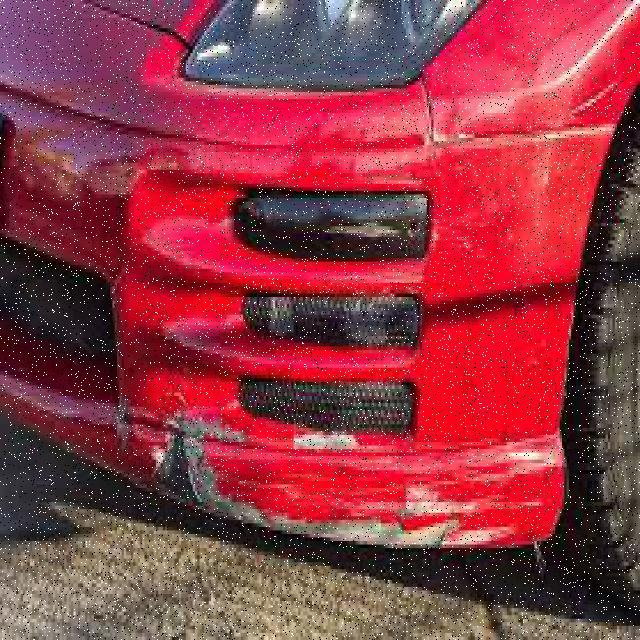front-bumper-dent: (0, 99, 628, 552)
